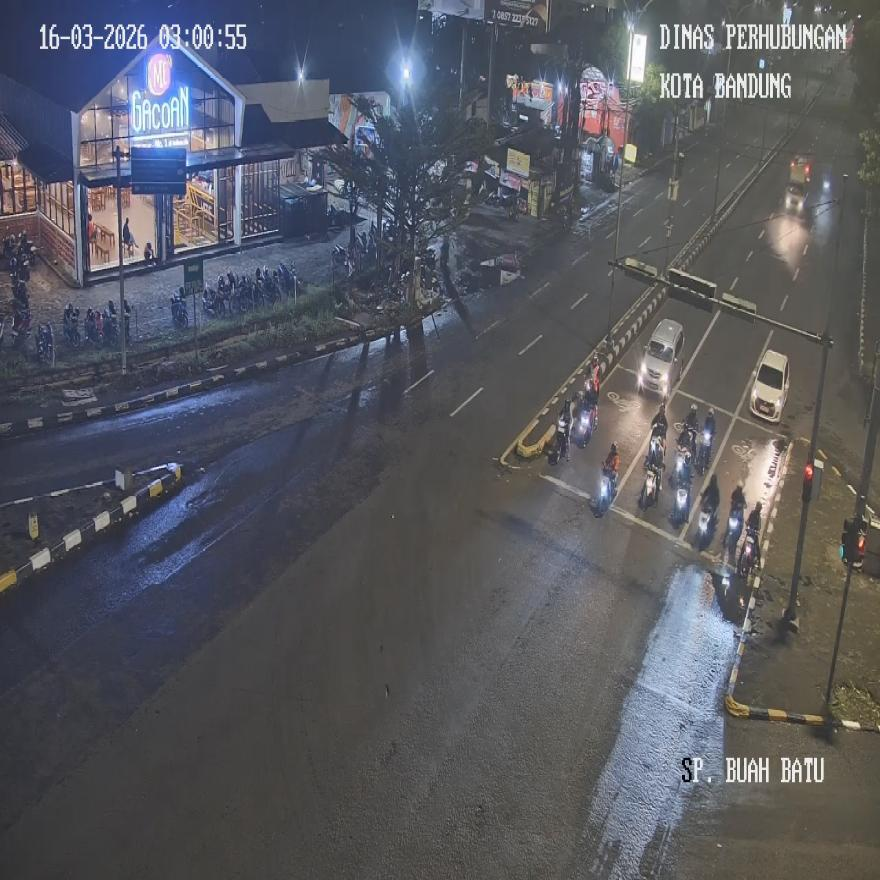Mobil: (637, 319, 683, 401), (750, 347, 790, 422)
Motor: (672, 450, 693, 523), (737, 526, 758, 578), (594, 468, 616, 516), (696, 499, 716, 550), (572, 402, 595, 446), (10, 305, 32, 350), (549, 416, 570, 463), (724, 506, 742, 557), (276, 260, 297, 300), (83, 308, 105, 346), (231, 278, 253, 316), (641, 466, 659, 509), (62, 310, 82, 348), (696, 427, 712, 474), (202, 282, 222, 319), (36, 321, 53, 362), (170, 290, 188, 328), (332, 242, 350, 280), (101, 308, 118, 348), (144, 240, 158, 268)
